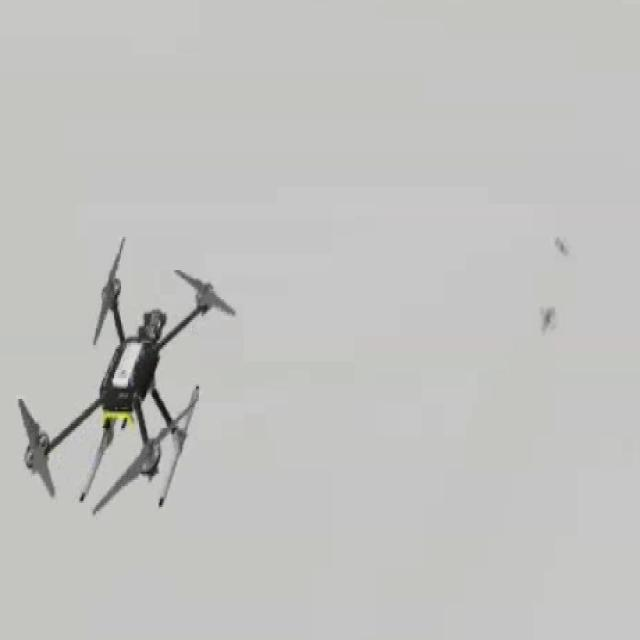drone: (15, 231, 239, 515)
